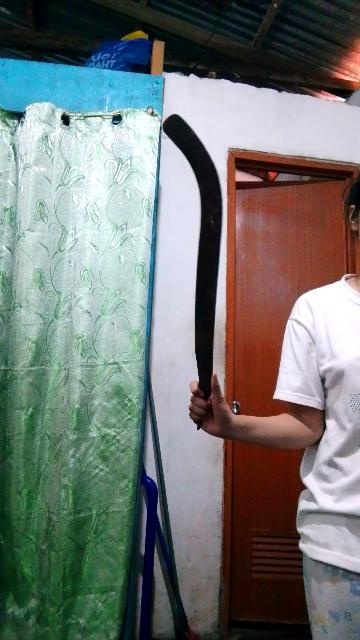long knife: (157, 114, 229, 444)
